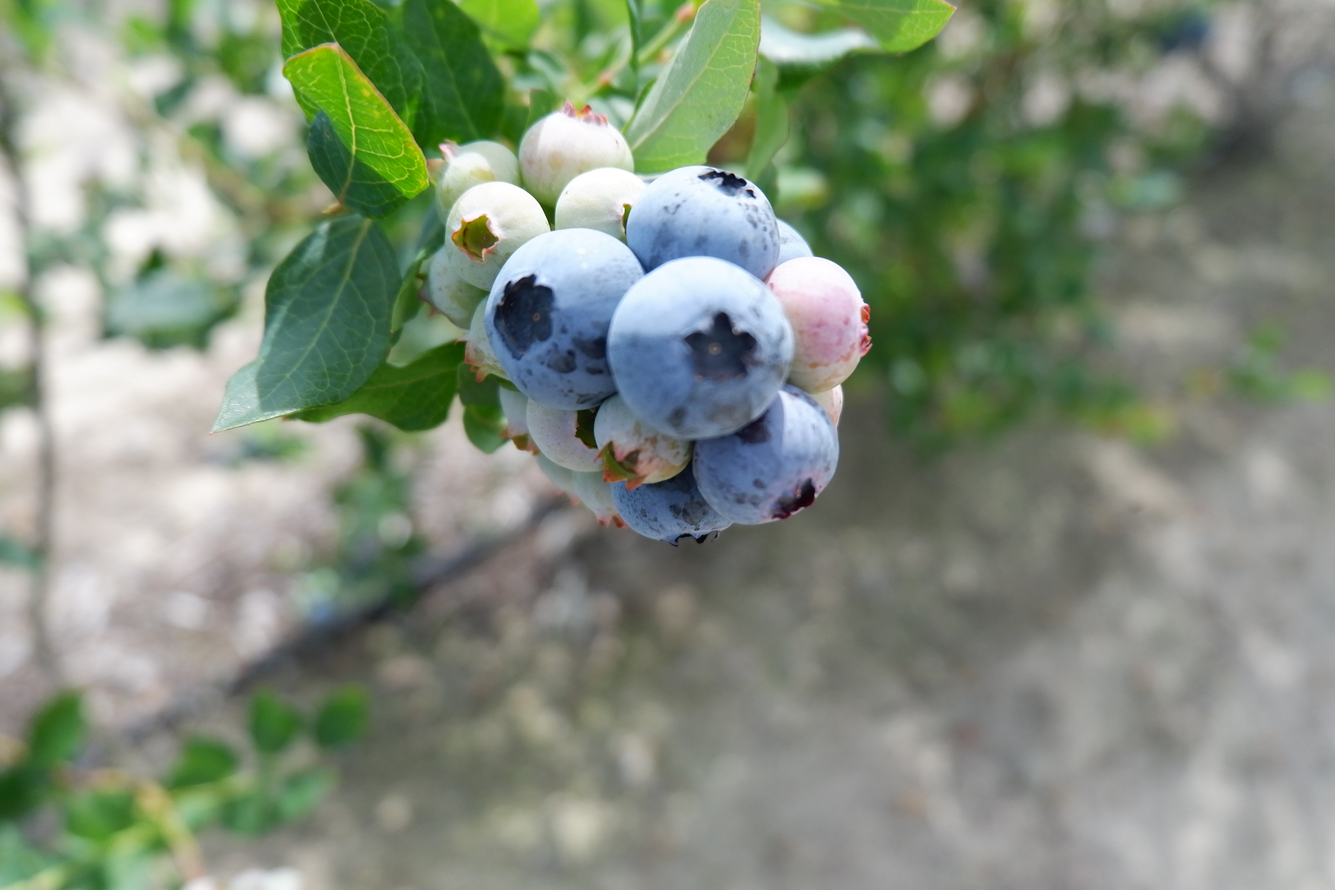Immature: (771, 259, 870, 390), (520, 105, 630, 201), (449, 183, 546, 283), (596, 396, 690, 484), (557, 169, 645, 241), (432, 142, 517, 211), (423, 243, 485, 327), (529, 401, 600, 470), (465, 297, 508, 378), (571, 470, 623, 527), (535, 451, 578, 505), (500, 383, 535, 446), (795, 385, 843, 426)
Mature: (611, 258, 789, 438), (489, 230, 640, 404), (694, 389, 836, 522), (629, 167, 775, 275), (612, 462, 729, 542), (773, 220, 813, 272)
